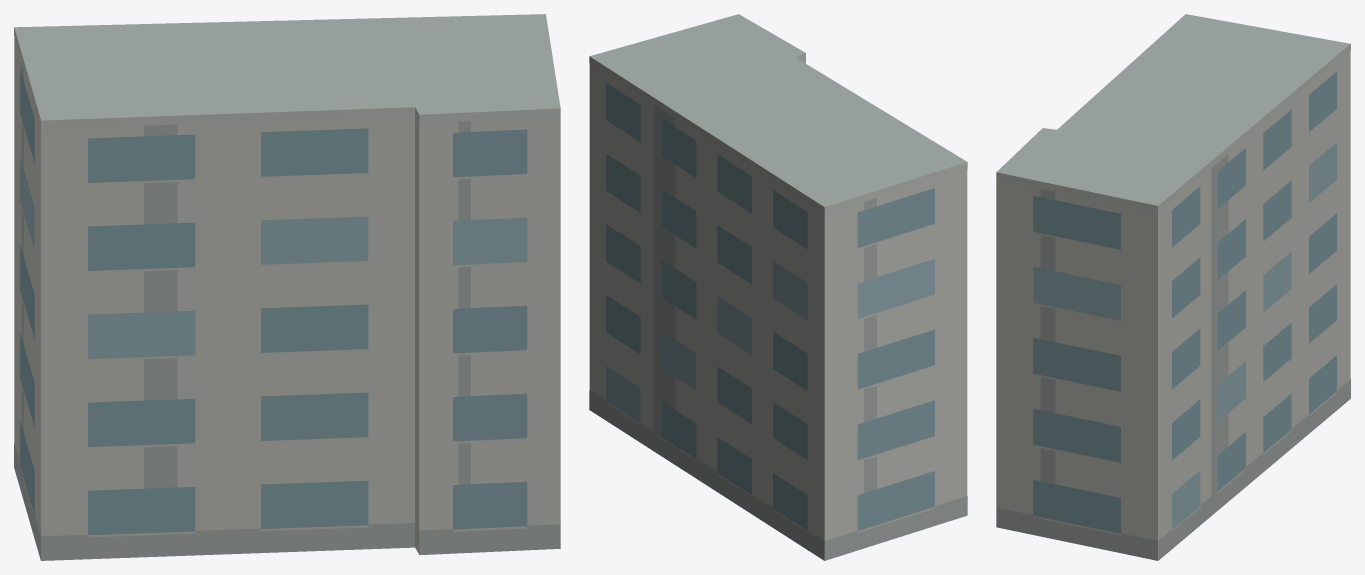
Rendered from survey-upis-33042032.glb.
3 renders of one model, left to right at view 1: azimuth 30°, elevation 25°; view 2: azimuth 150°, elevation 25°; view 3: azimuth 270°, elevation 25°, orthographic. The views are drawn at different scales.
Visible parts, largest first — view 1: survey-upis-33042032.tmp; view 2: survey-upis-33042032.tmp; view 3: survey-upis-33042032.tmp.
Boxes of the visible parts, x1,y1,x2,y2 form: survey-upis-33042032.tmp: [14, 14, 560, 560]; survey-upis-33042032.tmp: [589, 14, 967, 560]; survey-upis-33042032.tmp: [996, 14, 1350, 560].
Bounding box in the file's own units: 14.09 × 12.15 × 11.
